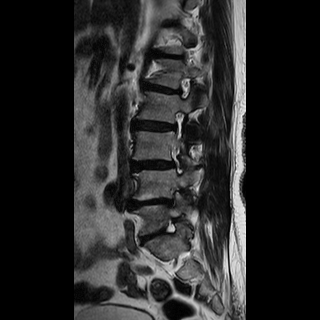RFS0: (171, 71, 196, 104)
